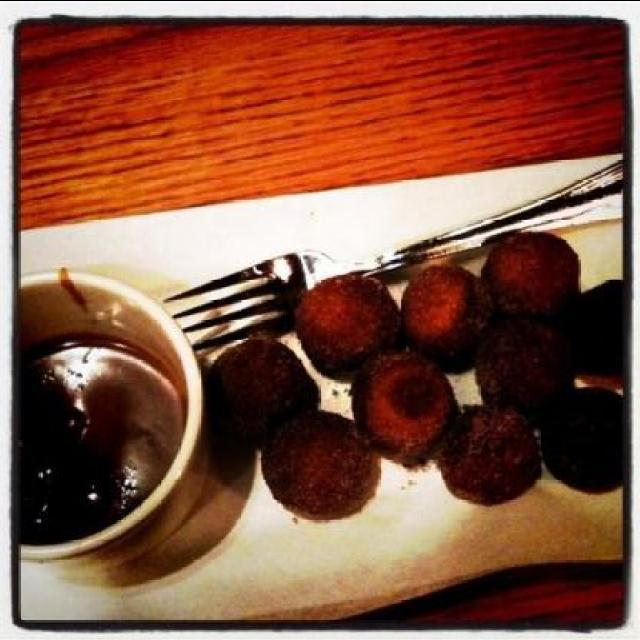Donuts: (196, 236, 639, 520)
